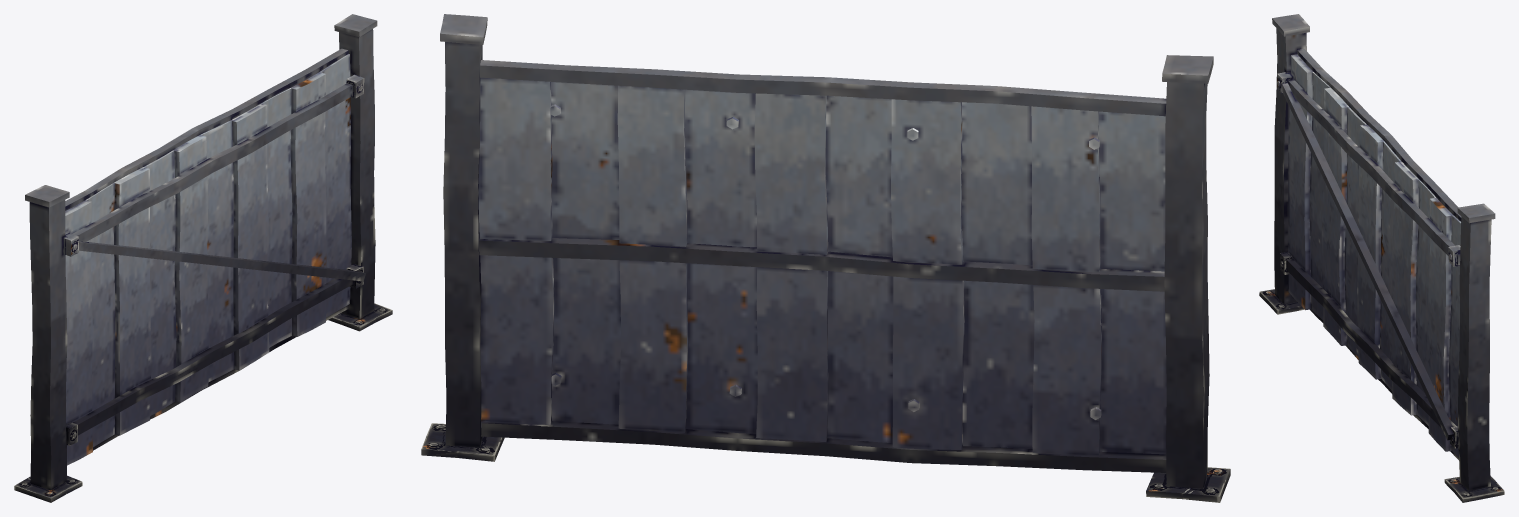
The picture shows the model from 3 angles, left to right: view 1: azimuth 30°, elevation 25°; view 2: azimuth 150°, elevation 25°; view 3: azimuth 270°, elevation 25°; orthographic projection. The views are drawn at different scales.
Parts seen in each view (by area): view 1: Sheets, Posts, Fittings; view 2: Sheets, Posts, Fittings; view 3: Sheets, Posts, Fittings.
Part boxes in pixels (bbox=[...]): Sheets: bbox=[65, 54, 351, 465]; Posts: bbox=[25, 14, 377, 490]; Fittings: bbox=[14, 74, 392, 502]; Sheets: bbox=[478, 77, 1166, 455]; Posts: bbox=[440, 14, 1213, 488]; Fittings: bbox=[421, 423, 1230, 502]; Sheets: bbox=[1288, 54, 1460, 457]; Posts: bbox=[1272, 14, 1495, 491]; Fittings: bbox=[1259, 72, 1504, 502].
Bounding box in the file's own units: 13.12 × 7.98 × 6.33.
Materials: 3 (3 with a texture image).
